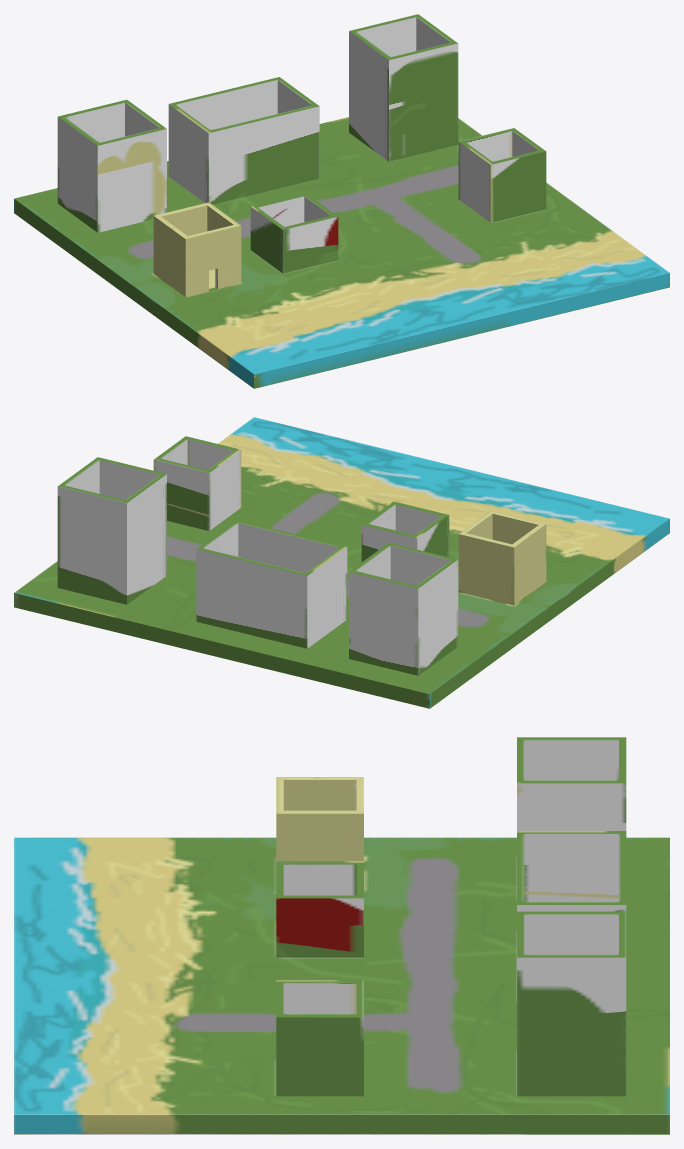
3 views of the same model, one above another, from view 1: azimuth 30°, elevation 25°; view 2: azimuth 150°, elevation 25°; view 3: azimuth 270°, elevation 25° (orthographic). The views are drawn at different scales.
Parts seen in each view (by area): view 1: Cube.001; view 2: Cube.001; view 3: Cube.001.
Boxes of the visible parts, x1,y1,x2,y2 form: Cube.001: (14,14,669,388); Cube.001: (14,417,669,708); Cube.001: (14,737,669,1134).
Bounding box in the file's own units: 30 × 8 × 30.
Materials: 1 (1 with a texture image).
